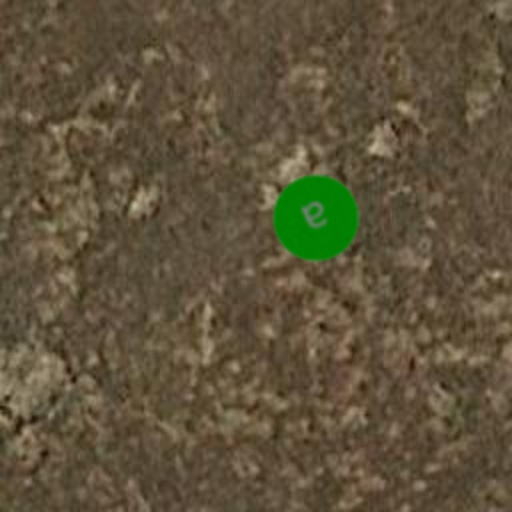circle: (258, 160, 374, 276)
